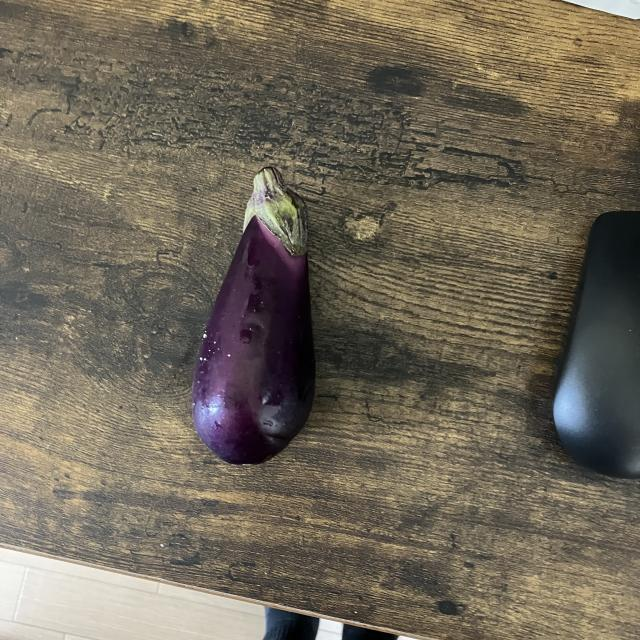eggplant: (190, 166, 320, 469)
